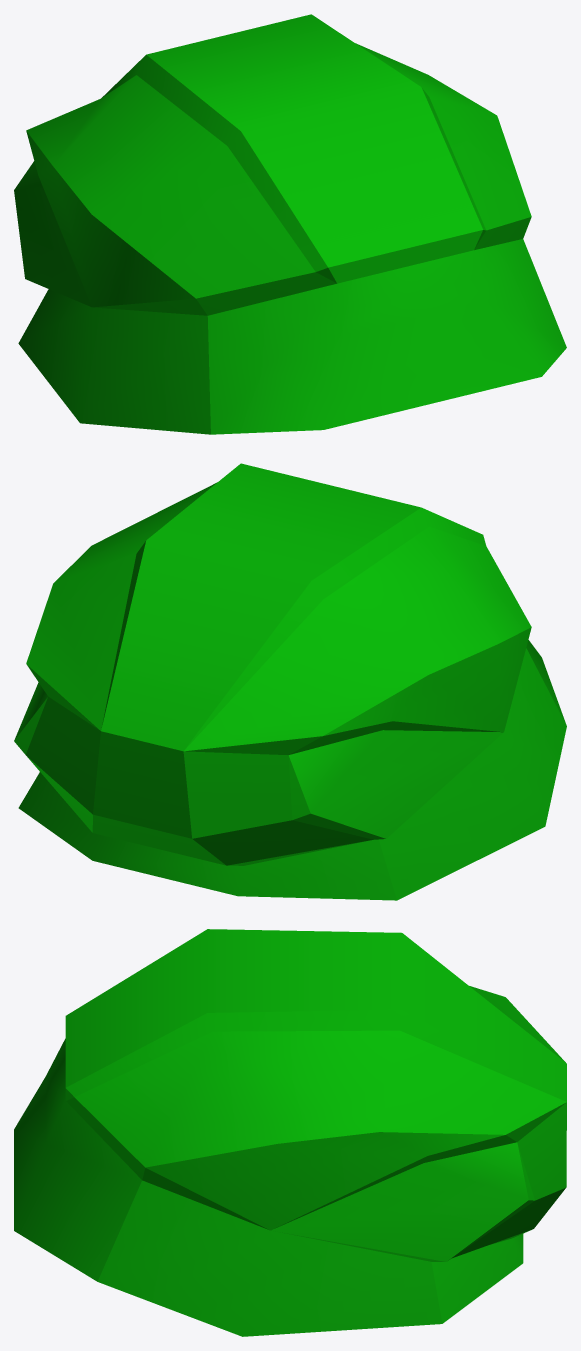
The model's file is Beanie_M.fbx.
3 renders of one model, top to bottom at view 1: azimuth 30°, elevation 25°; view 2: azimuth 150°, elevation 25°; view 3: azimuth 270°, elevation 25°, orthographic. The views are drawn at different scales.
Parts seen in each view (by area): view 1: Beanie_M; view 2: Beanie_M; view 3: Beanie_M.
Boxes of the visible parts, box(x1,y1,x2,y2) form: Beanie_M: box(14, 14, 566, 434); Beanie_M: box(14, 463, 566, 900); Beanie_M: box(14, 929, 566, 1336).
Size of the model in its own units: 28.58 by 16.35 by 30.91.
